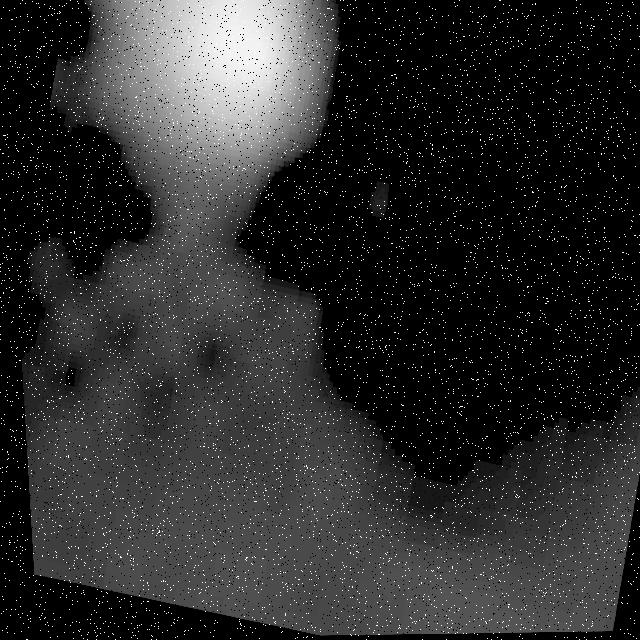person: (58, 1, 351, 244)
